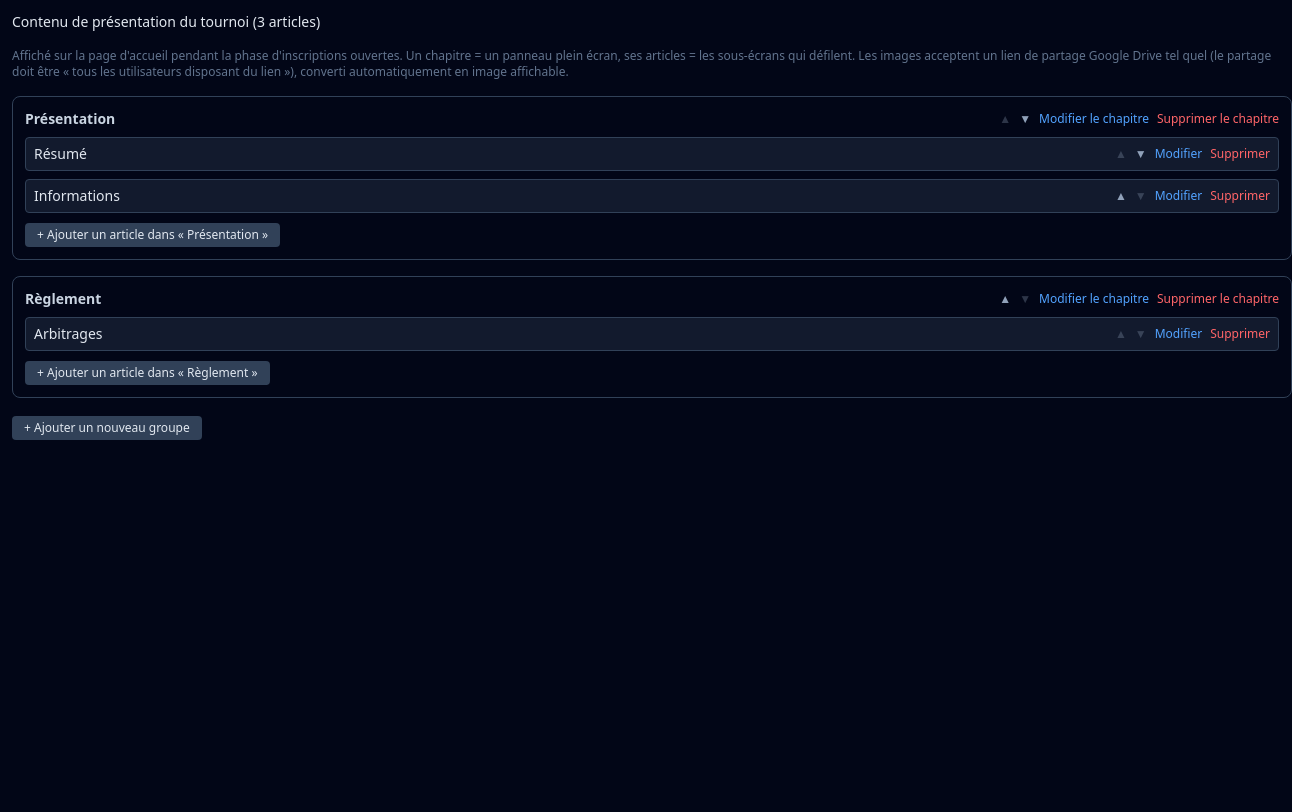
Scenario: PresentationArticlesAdmin › contrôle de l'image de chapitre › aperçu › shows no preview for an vide URL
Click the 2nd button "Modifier le chapitre": (1094, 299) [1039, 291, 1149, 307]
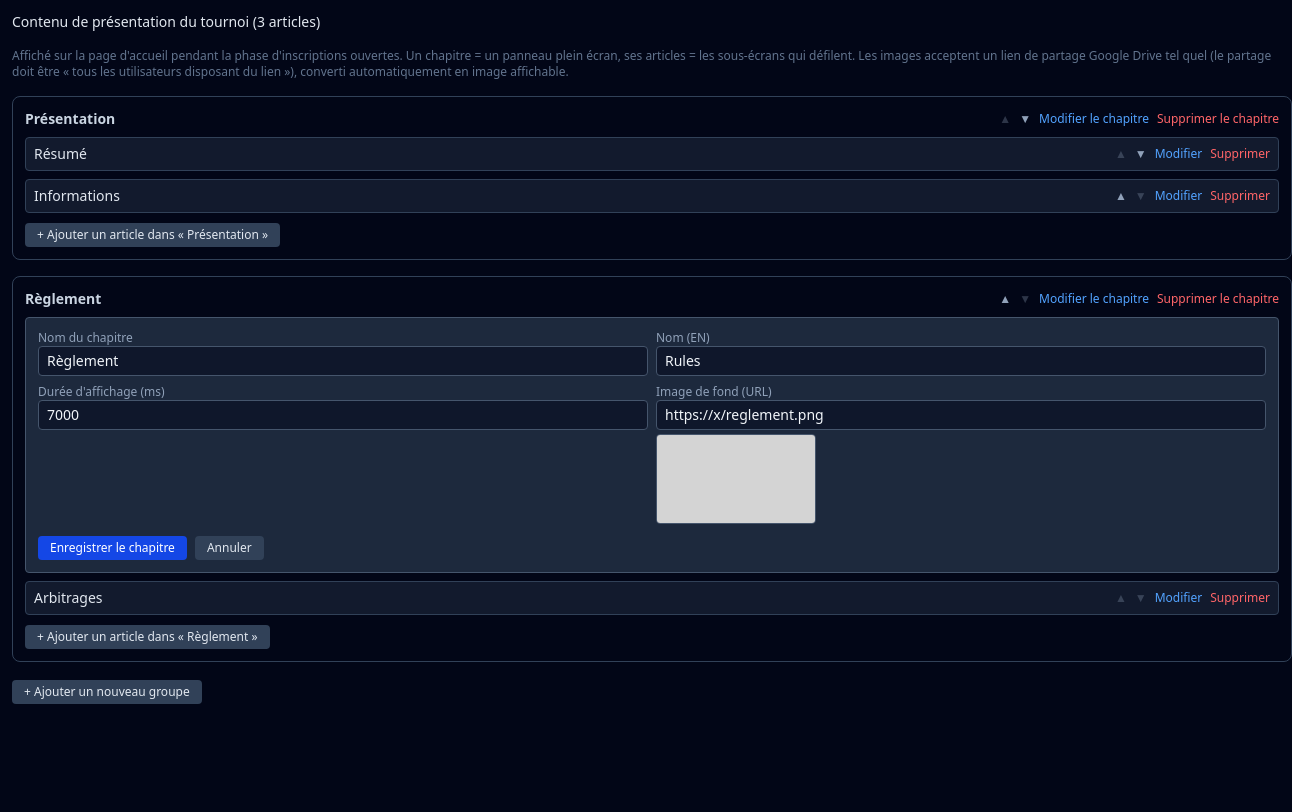
Clear the field with test id "groupe-image-input": (961, 415) [656, 400, 1266, 430]
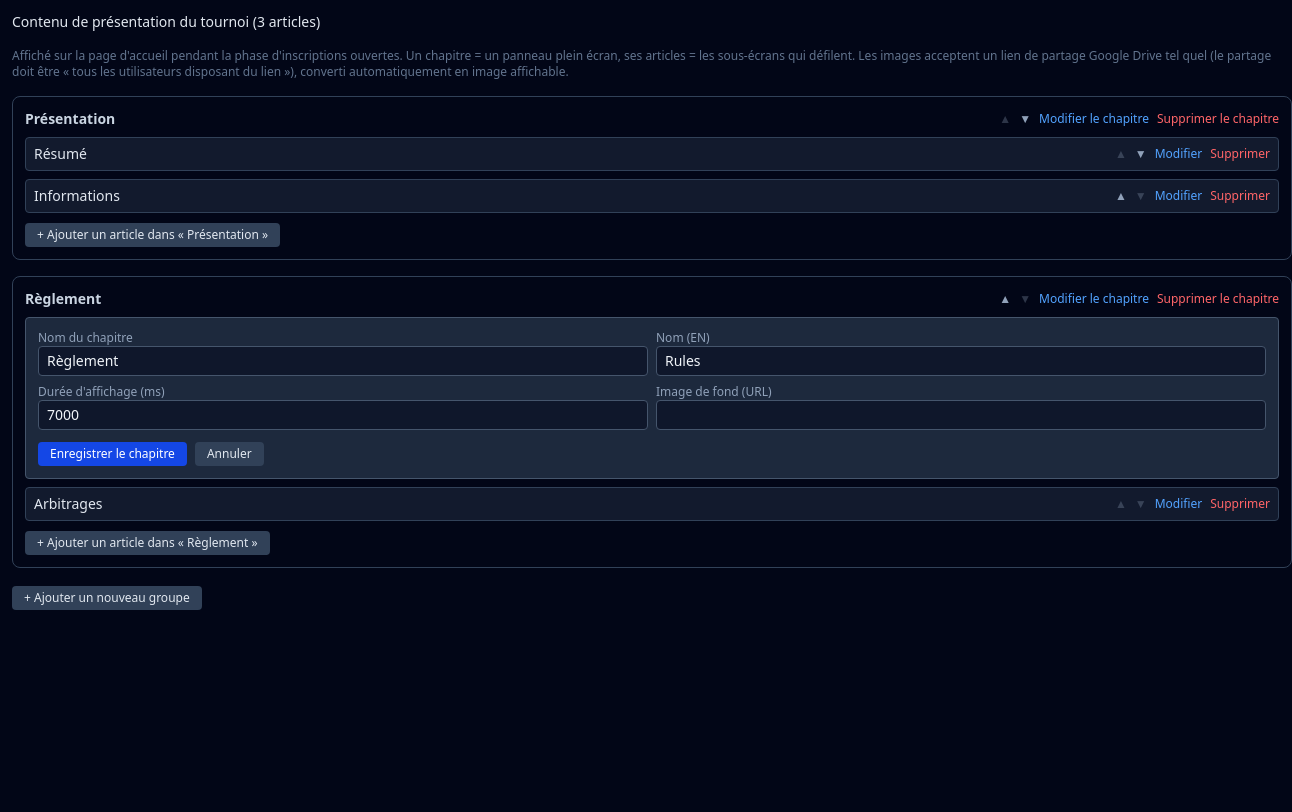
Expected: the picture with test id "groupe-image-preview" is gone
